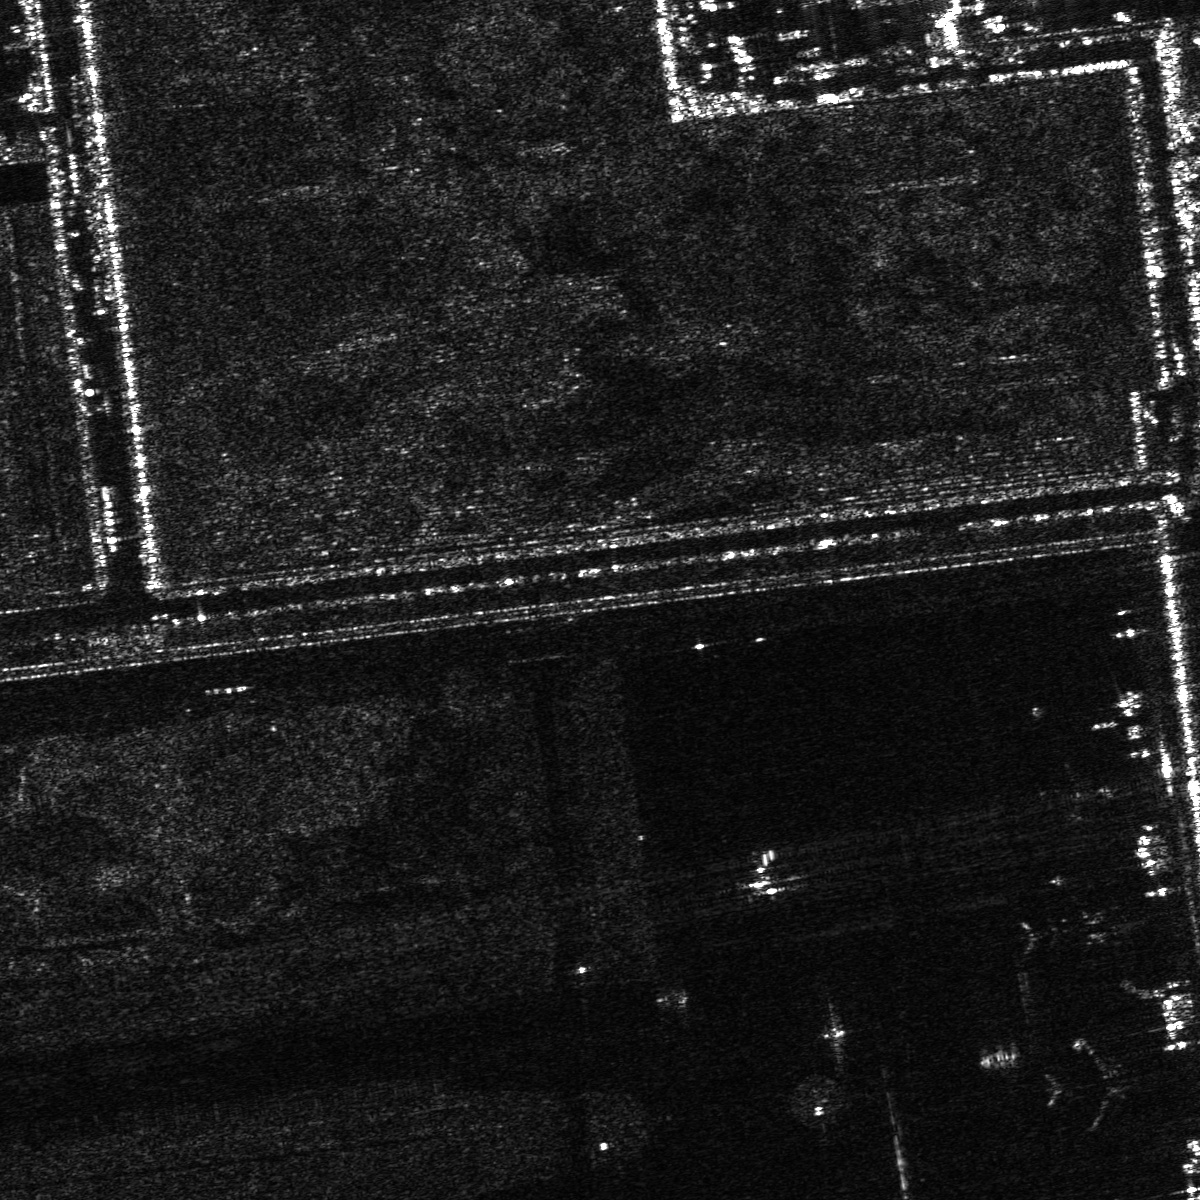Boeing787: (1009, 879, 1131, 984), (1044, 1038, 1149, 1131)
other: (1031, 760, 1115, 834), (727, 848, 797, 905)
